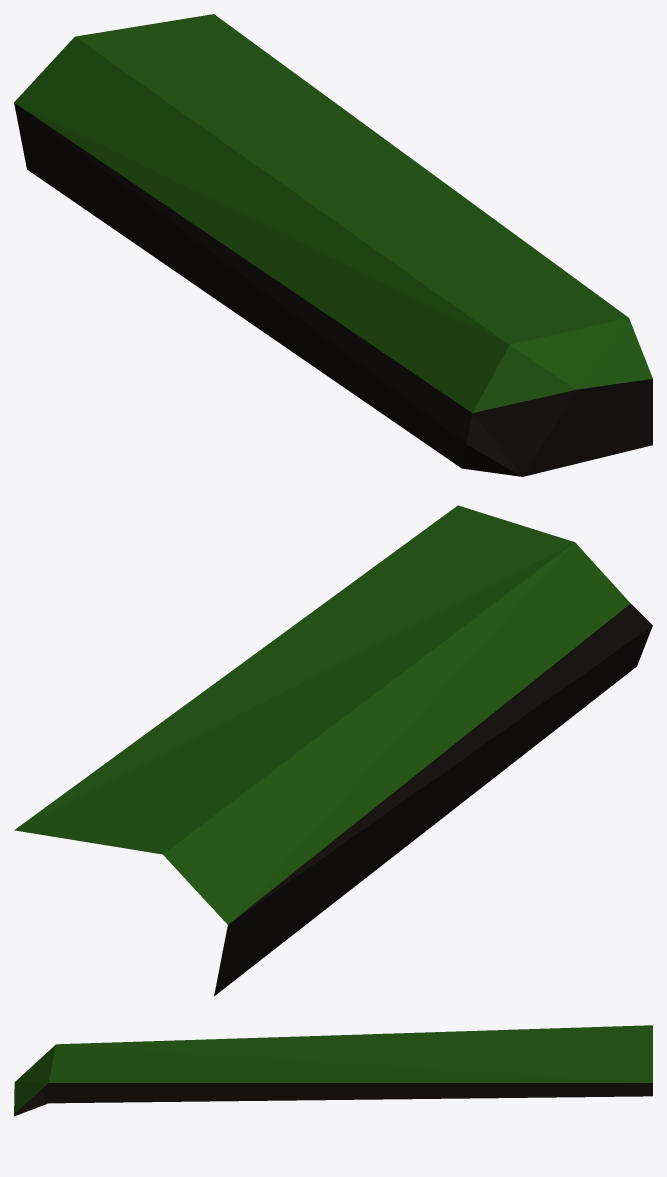
File: 2D_Island_Top_EndL.fbx
The picture shows the model from 3 angles, top to bottom: view 1: azimuth 30°, elevation 25°; view 2: azimuth 150°, elevation 25°; view 3: azimuth 270°, elevation 25°; orthographic projection. The views are drawn at different scales.
Visible parts, largest first — view 1: 2D_Island_Top_EndL; view 2: 2D_Island_Top_EndL; view 3: 2D_Island_Top_EndL.
Part boxes in pixels (x1,y1,x2,y2): 2D_Island_Top_EndL: (14, 14, 652, 476); 2D_Island_Top_EndL: (14, 505, 652, 996); 2D_Island_Top_EndL: (14, 1025, 652, 1116).
Size of the model in its own units: 228 by 132 by 867.
